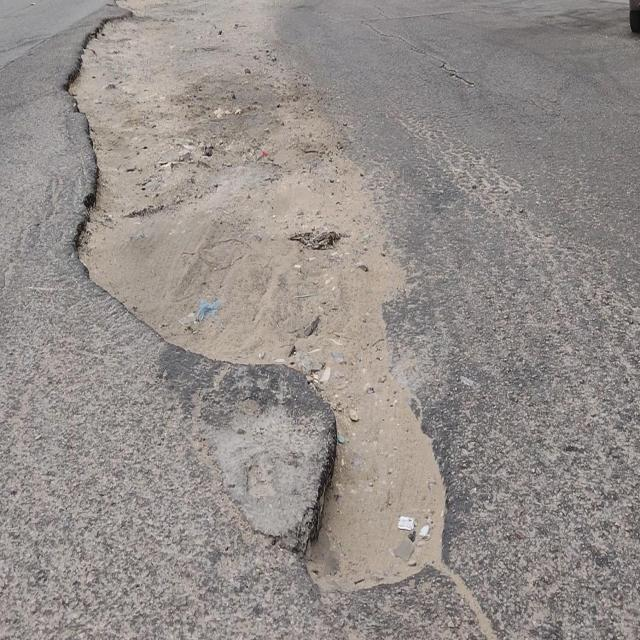Potholes: (297, 387, 454, 596), (71, 179, 165, 326), (62, 58, 106, 125), (95, 11, 137, 43)
